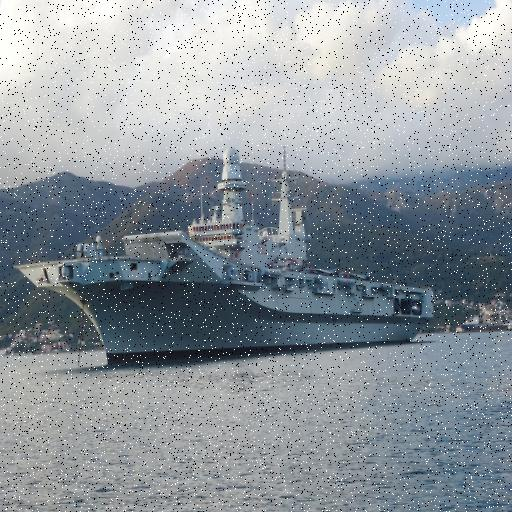Portanaves: (12, 140, 439, 378)
